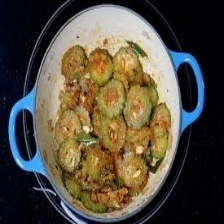sabzi: (45, 32, 176, 221)
